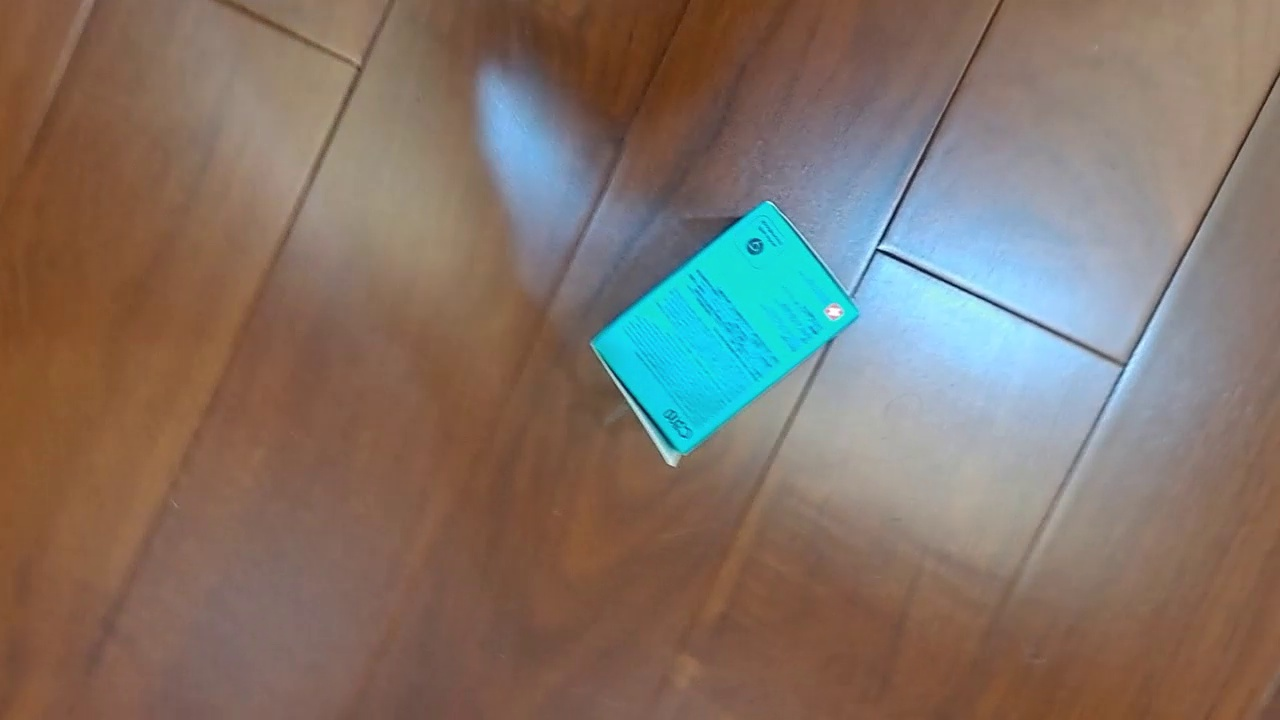webcam: (587, 199, 861, 469)
